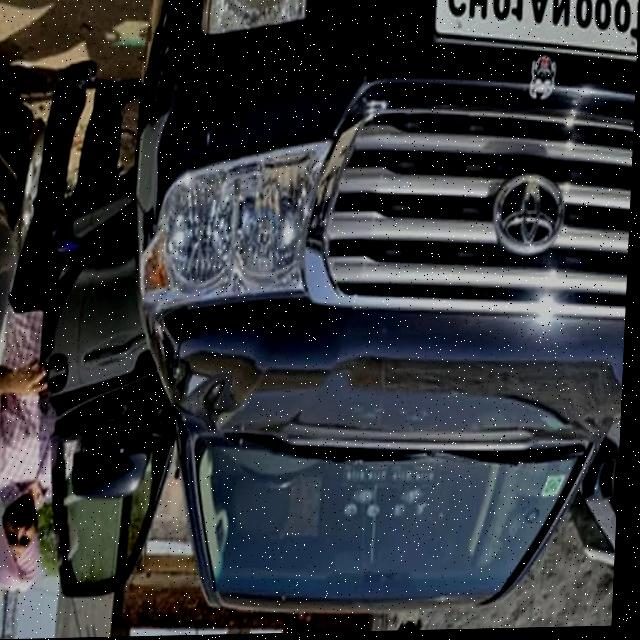plate: (430, 0, 640, 72)
